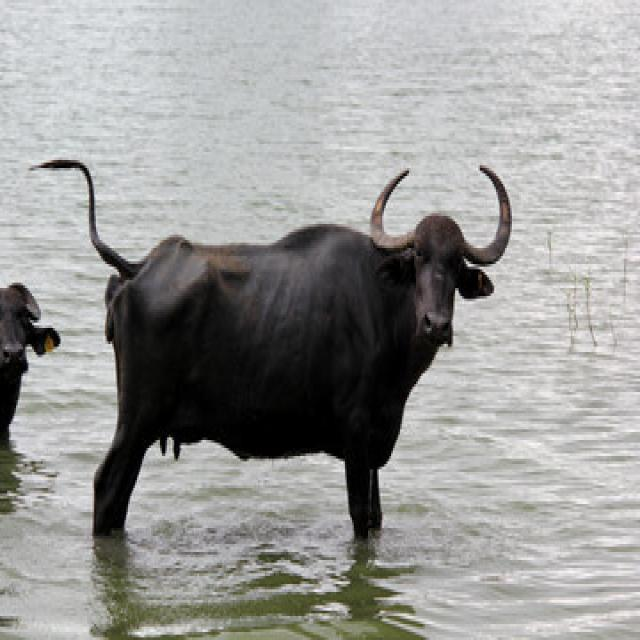Buffalo: (47, 152, 524, 539)
